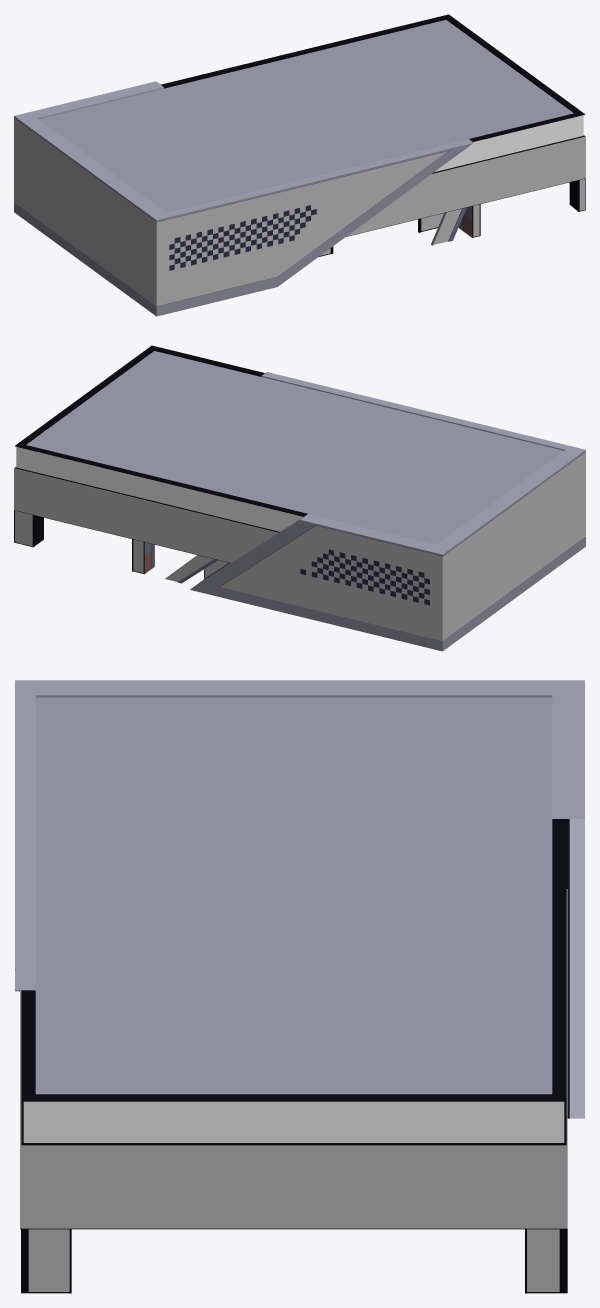
The model's file is Building_Hana_001_1st_L0.fbx.
3 views of the same model, one above another, from view 1: azimuth 30°, elevation 25°; view 2: azimuth 150°, elevation 25°; view 3: azimuth 270°, elevation 25° (orthographic). The views are drawn at different scales.
Parts seen in each view (by area): view 1: Building_Hana_001_1st_L0; view 2: Building_Hana_001_1st_L0; view 3: Building_Hana_001_1st_L0.
Boxes of the visible parts, x1=… form: Building_Hana_001_1st_L0: x1=14, y1=14, x2=585, y2=316; Building_Hana_001_1st_L0: x1=14, y1=345, x2=585, y2=651; Building_Hana_001_1st_L0: x1=15, y1=680, x2=584, y2=1293.
Size of the model in its own units: 70.21 by 15 by 40.25.
